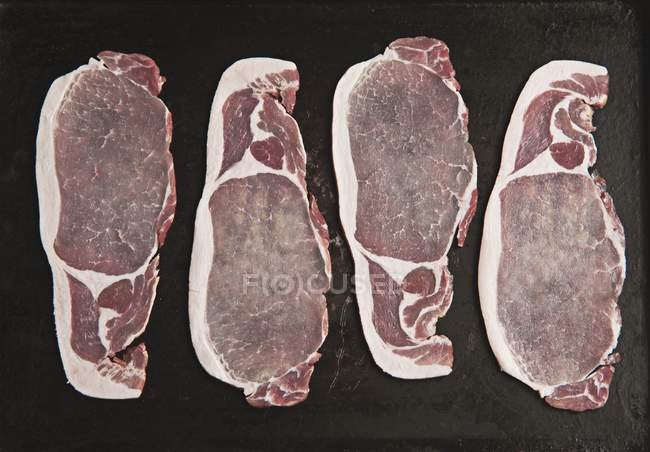bacon: (25, 40, 172, 411), (319, 28, 458, 392), (479, 49, 613, 408), (204, 34, 320, 416)
